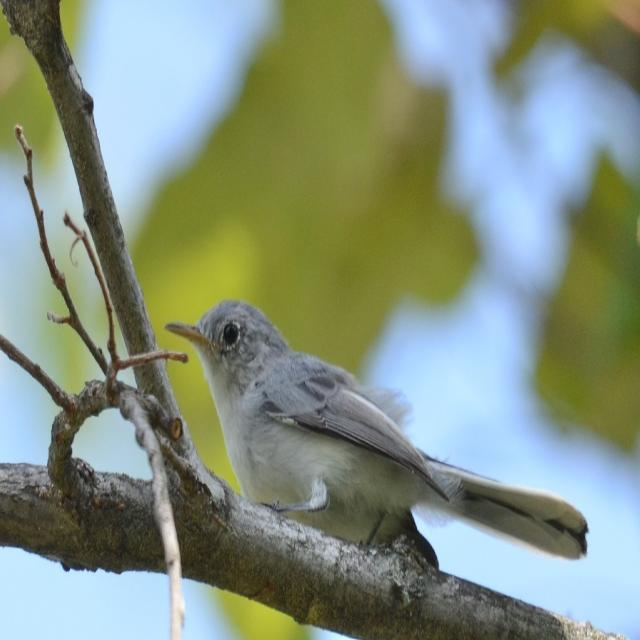bird: (160, 294, 594, 571)
